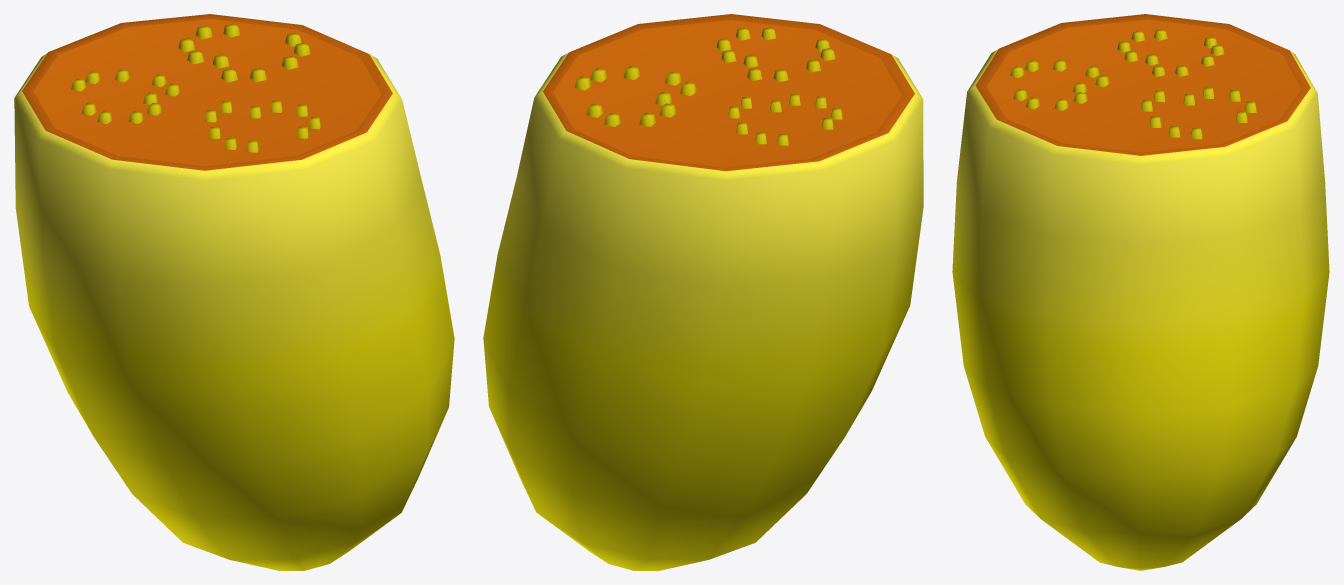
The model's file is Eggplant_half_01.fbx.
3 renders of one model, left to right at view 1: azimuth 30°, elevation 25°; view 2: azimuth 150°, elevation 25°; view 3: azimuth 270°, elevation 25°, orthographic. The views are drawn at different scales.
Parts seen in each view (by area): view 1: Eggplant_half_01; view 2: Eggplant_half_01; view 3: Eggplant_half_01.
Boxes of the visible parts, x1,y1,x2,y2 form: Eggplant_half_01: (14, 14, 454, 570); Eggplant_half_01: (483, 14, 923, 570); Eggplant_half_01: (952, 14, 1329, 570).
Bounding box in the file's own units: 58 × 54.1 × 70.9.
